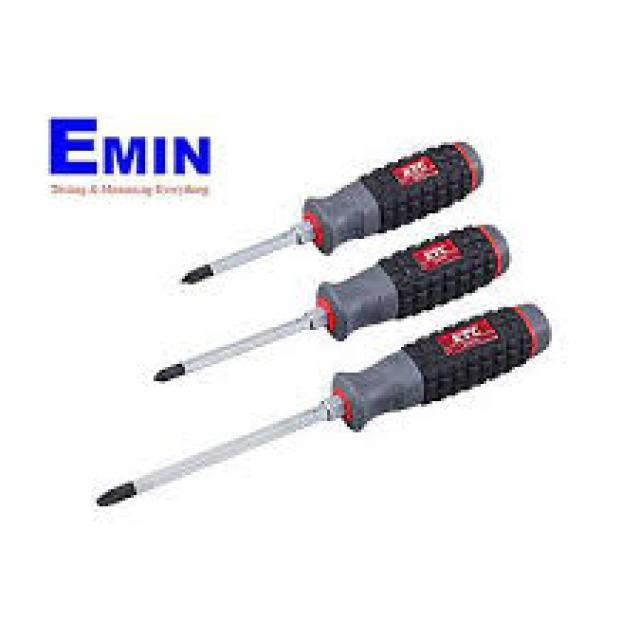screwdriver: (91, 297, 558, 514), (150, 219, 514, 390), (176, 138, 489, 292)
